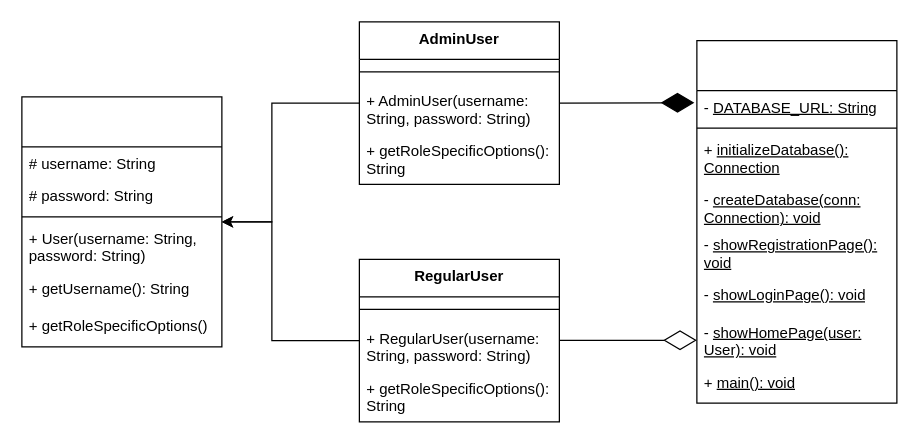
Image size: 919x448. Some labels were removed from this diagram. The box of each missing label's shape, as (x1, y1, x2, y2) in pixels:
<<abstract>> User: (21, 96, 222, 347)
MessManagerGUI: (696, 39, 897, 403)
